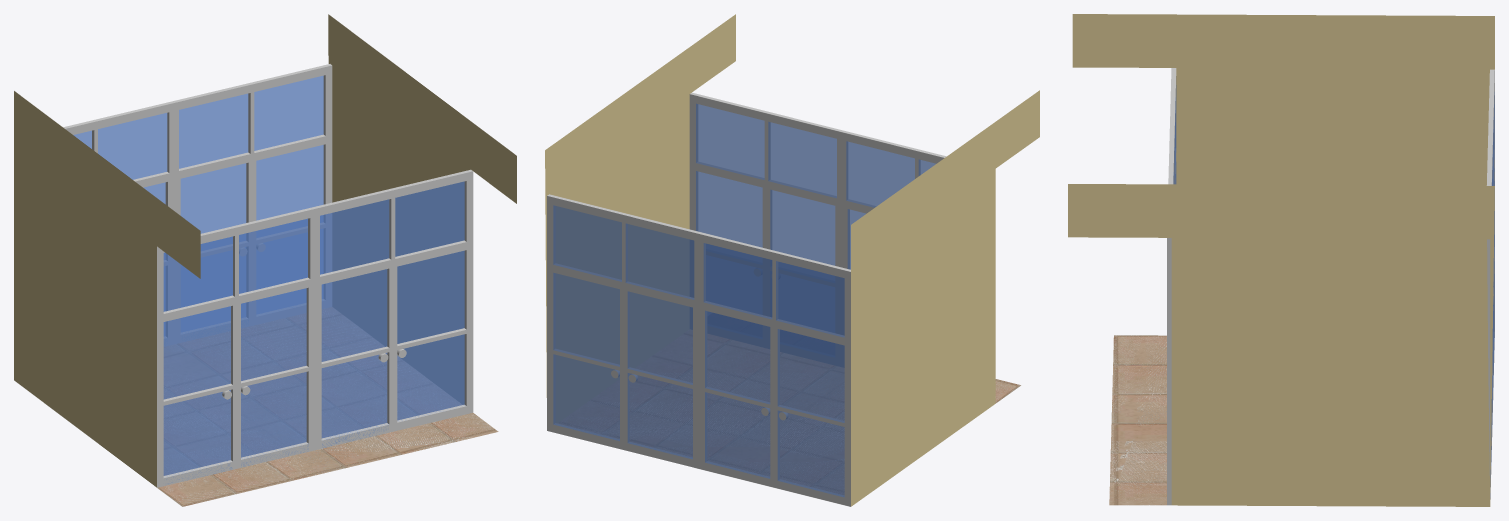
File: COM001.obj
The picture shows the model from 3 angles, left to right: view 1: azimuth 30°, elevation 25°; view 2: azimuth 150°, elevation 25°; view 3: azimuth 270°, elevation 25°; orthographic projection. The views are drawn at different scales.
Parts seen in each view (by area): view 1: Mesh29 COM01 Model, Mesh1 puerta11_5_1 COM01 Model, Mesh15 puerta11_5_2 COM01 Model; view 2: Mesh29 COM01 Model, Mesh15 puerta11_5_2 COM01 Model, Mesh1 puerta11_5_1 COM01 Model; view 3: Mesh29 COM01 Model, Mesh1 puerta11_5_1 COM01 Model, Mesh15 puerta11_5_2 COM01 Model.
Part boxes in pixels (x1=…): Mesh29 COM01 Model: x1=14, y1=14, x2=516, y2=506; Mesh1 puerta11_5_1 COM01 Model: x1=157, y1=169, x2=473, y2=487; Mesh15 puerta11_5_2 COM01 Model: x1=63, y1=64, x2=332, y2=346; Mesh29 COM01 Model: x1=545, y1=14, x2=1039, y2=506; Mesh15 puerta11_5_2 COM01 Model: x1=547, y1=194, x2=850, y2=506; Mesh1 puerta11_5_1 COM01 Model: x1=689, y1=92, x2=946, y2=367; Mesh29 COM01 Model: x1=1068, y1=14, x2=1494, y2=506; Mesh1 puerta11_5_1 COM01 Model: x1=1167, y1=68, x2=1176, y2=505; Mesh15 puerta11_5_2 COM01 Model: x1=1486, y1=69, x2=1494, y2=499.
Size of the model in its own units: 4.13 by 3.6 by 4.34.
Materials: 5 (2 with a texture image).
